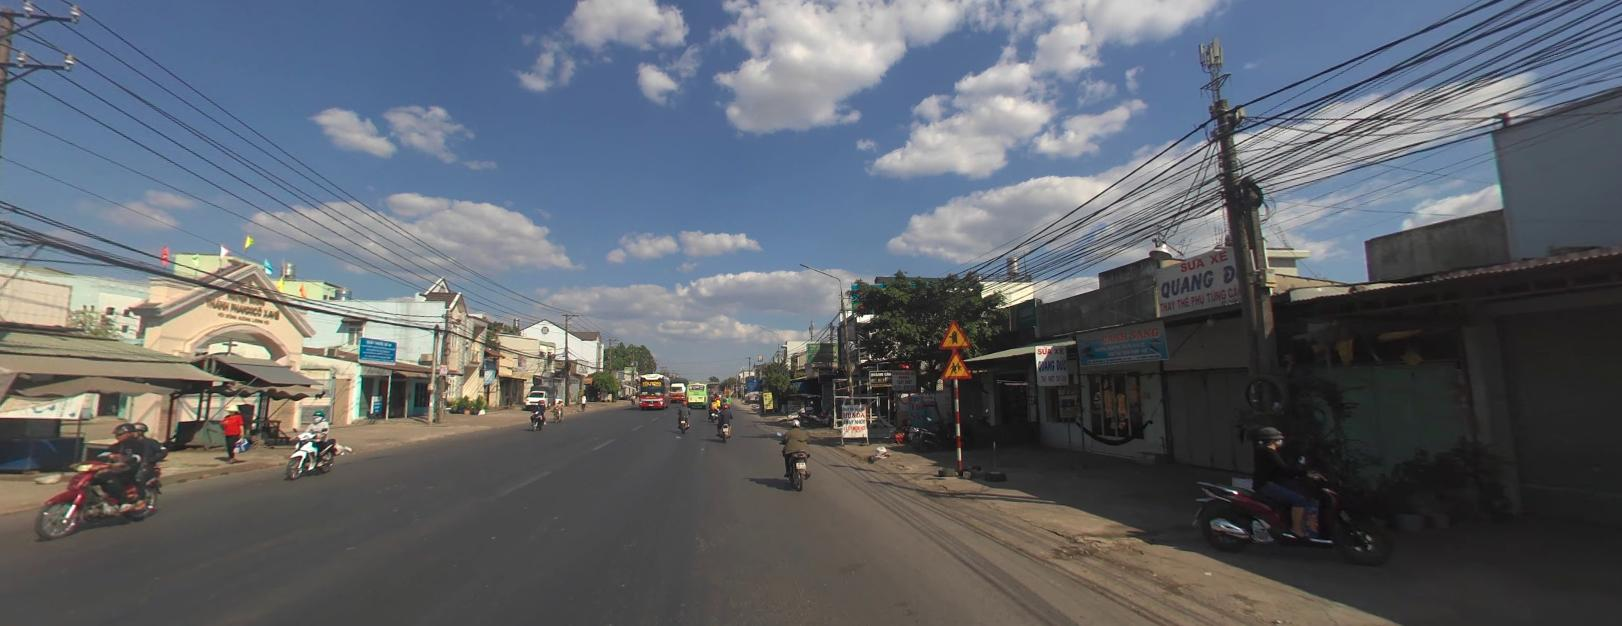Nguy hiem: (939, 349, 971, 377), (939, 319, 972, 346)
